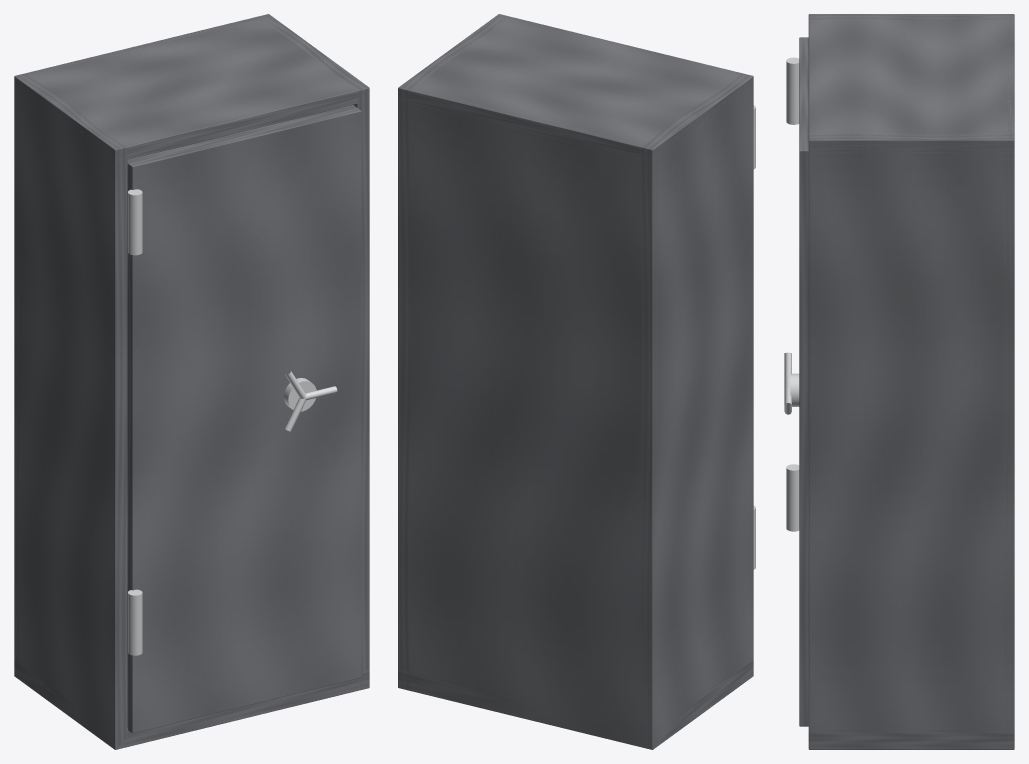
File: fps-weapon-set-and-firing-range-gun-safe-a56b99f2__19522.glb
3 views of the same model, side by side, from view 1: azimuth 30°, elevation 25°; view 2: azimuth 150°, elevation 25°; view 3: azimuth 270°, elevation 25° (orthographic).
Parts seen in each view (by area): view 1: door, gun-safe; view 2: gun-safe; view 3: gun-safe, door.
Part boxes in pixels (x1=…): door: x1=127, y1=105, x2=361, y2=733; gun-safe: x1=14, y1=14, x2=369, y2=749; gun-safe: x1=398, y1=14, x2=755, y2=749; gun-safe: x1=784, y1=14, x2=1014, y2=749; door: x1=799, y1=37, x2=808, y2=726.
Size of the model in its own units: 0.7999 by 1.8 by 0.615.
Materials: 3 (2 with a texture image).
